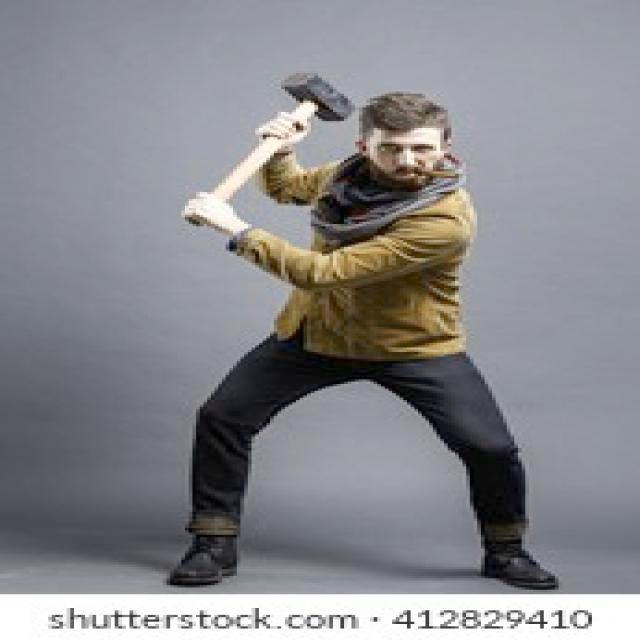hammer: (183, 64, 361, 231)
